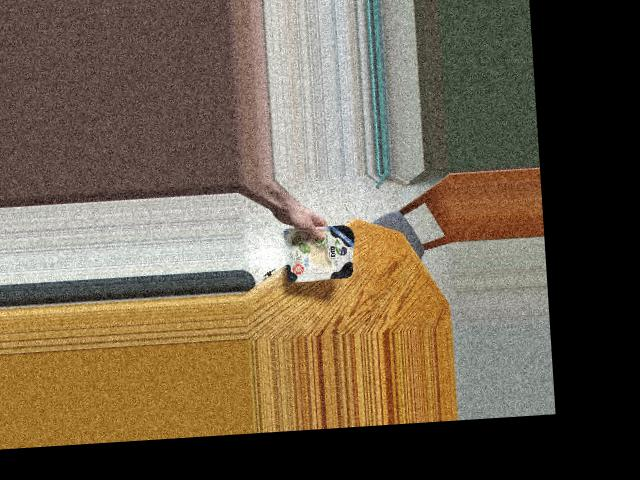cheese: (278, 220, 356, 282)
